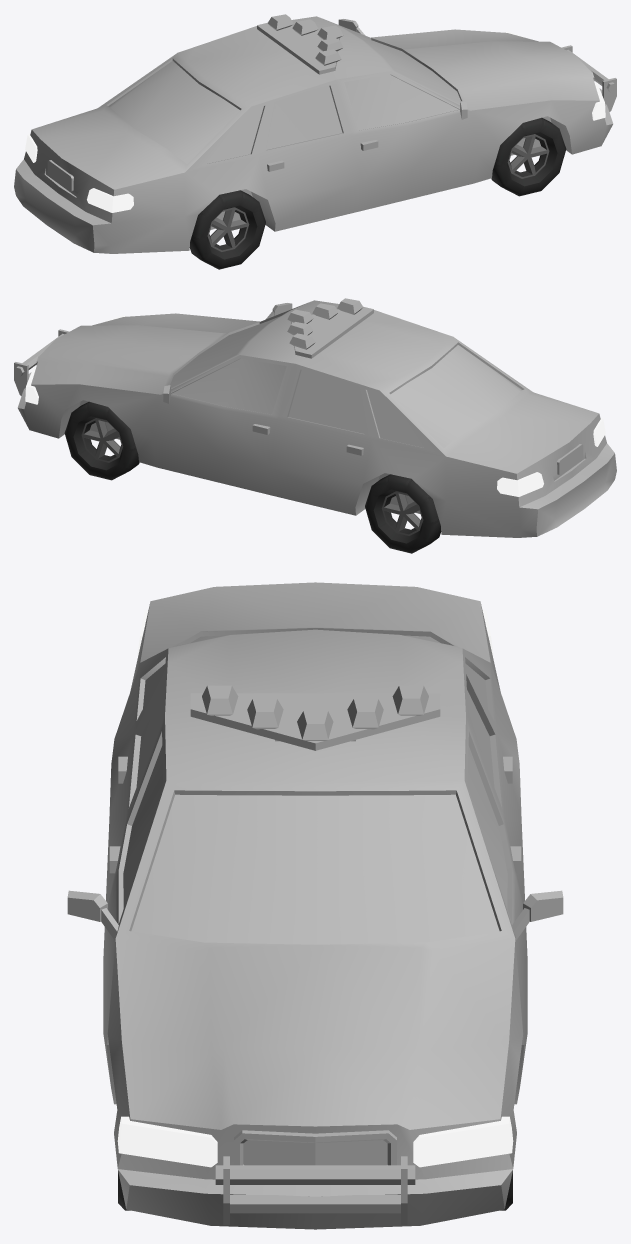
File: police.glb
3 views of the same model, one above another, from view 1: azimuth 30°, elevation 25°; view 2: azimuth 150°, elevation 25°; view 3: azimuth 270°, elevation 25° (orthographic). The views are drawn at different scales.
Visible parts, largest first — view 1: police; view 2: police; view 3: police.
Part boxes in pixels (box(x1,y1,x2,y2)): police: box(14, 14, 616, 269); police: box(14, 298, 616, 553); police: box(67, 582, 563, 1229).
Bounding box in the file's own units: 5.72 × 1.67 × 2.25.
6 materials, 2 textured.
